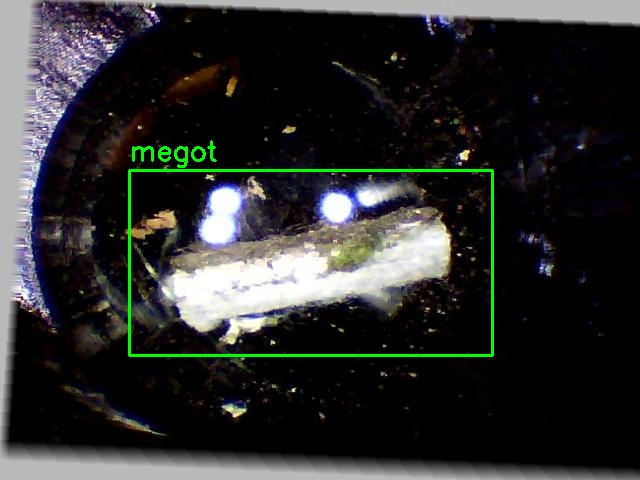megot: (129, 170, 492, 355)
